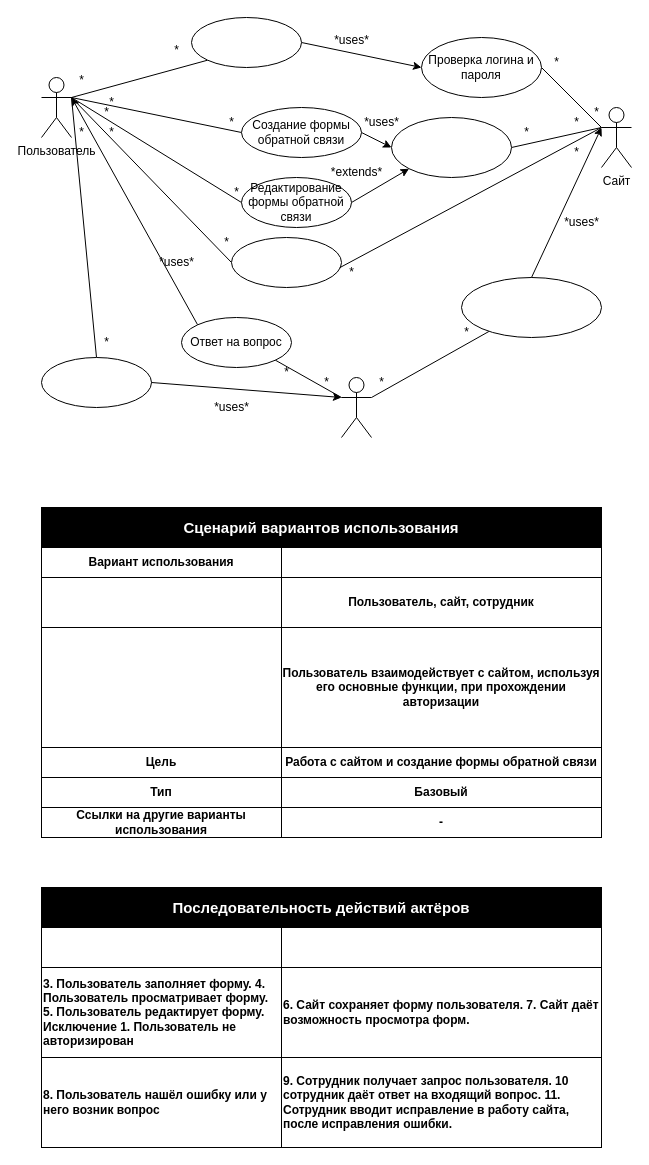
Image size: 649x1165. Some labels were removed from this diagram. The shapes that lost their labels are listed below. From the top down, each one's box as (x1, y1, x2, y2) in pixels, then its label:
(190, 16, 302, 68): Авторизация
(390, 116, 512, 178): Сохранение данных формы
(230, 236, 342, 288): Просмотр отправленных форм
(460, 276, 602, 338): Внесение изменений в работу сайта
(40, 356, 152, 408): Проблемы или вопросы с работой сайта
(340, 376, 372, 438): Сотрудник
(280, 546, 602, 578): Работа пользователя на сайте
(40, 576, 282, 628): Актёры
(40, 626, 282, 748): Краткое описание
(40, 926, 282, 968): 1. Пользователь заходит на сайт и авторизуется в нём
(280, 926, 602, 968): 2. Сайт получает данные для авторизации и регистрирует вход
